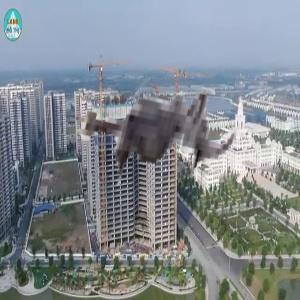drone: (53, 47, 243, 237)
